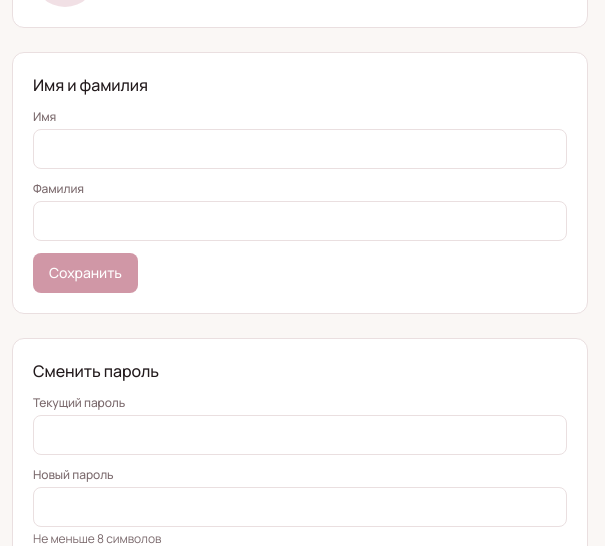
«Мой профиль»: change my own password › a wrong current password is said plainly (and never signs me out)
Type "old-one" into the password field labelled "Текущий пароль".
click(300, 435); type("old-one")  # box 33,415 -> 567,455
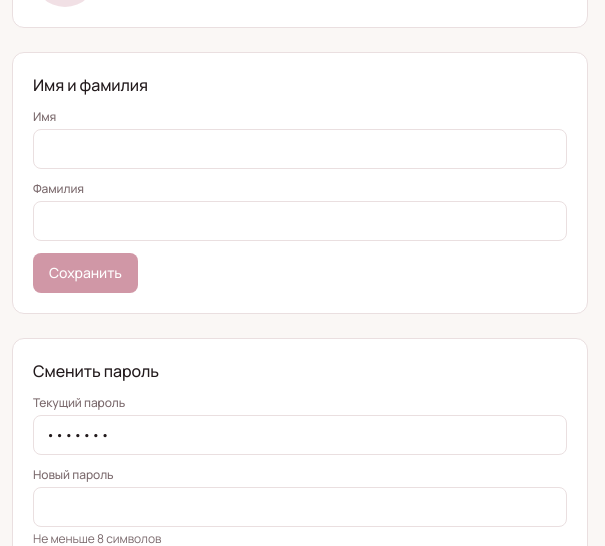
Type "New-Pass-123" into the password field labelled "Новый пароль".
click(300, 507); type("New-Pass-123")  # box 33,487 -> 567,527
(page scrolled)
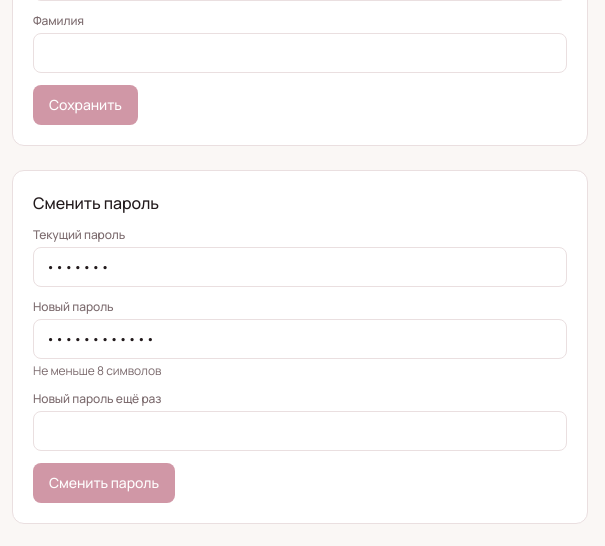
Type "New-Pass-123" into the password field labelled "Новый пароль ещё раз".
click(300, 431); type("New-Pass-123")  # box 33,411 -> 567,451
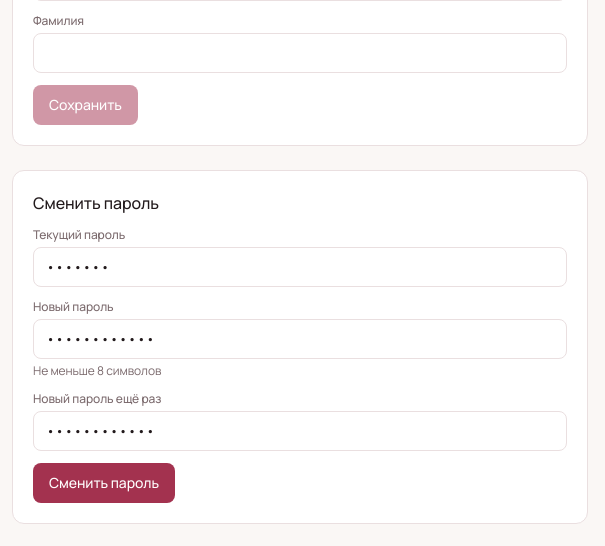
Click the button "Сменить пароль".
click(104, 483)  # box 33,463 -> 175,503
(page scrolled)
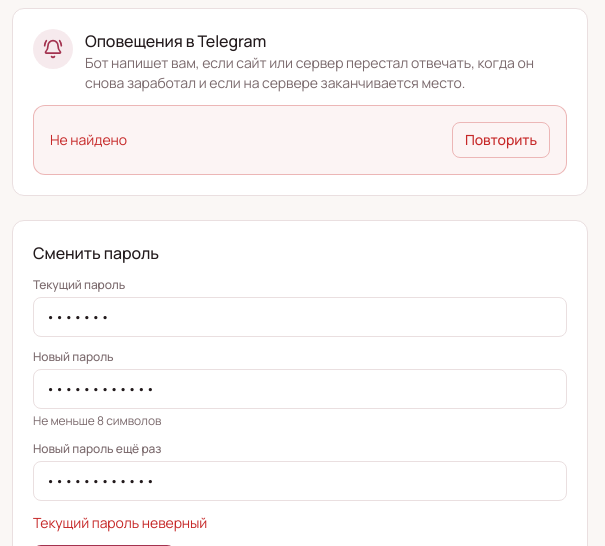
Result: the text "Текущий пароль неверный" is shown at 33,513 -> 207,532
